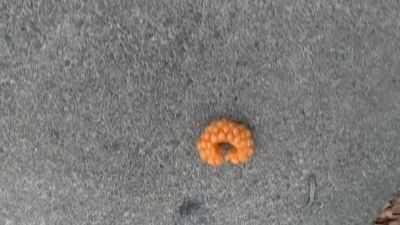eggs: (195, 118, 257, 168)
